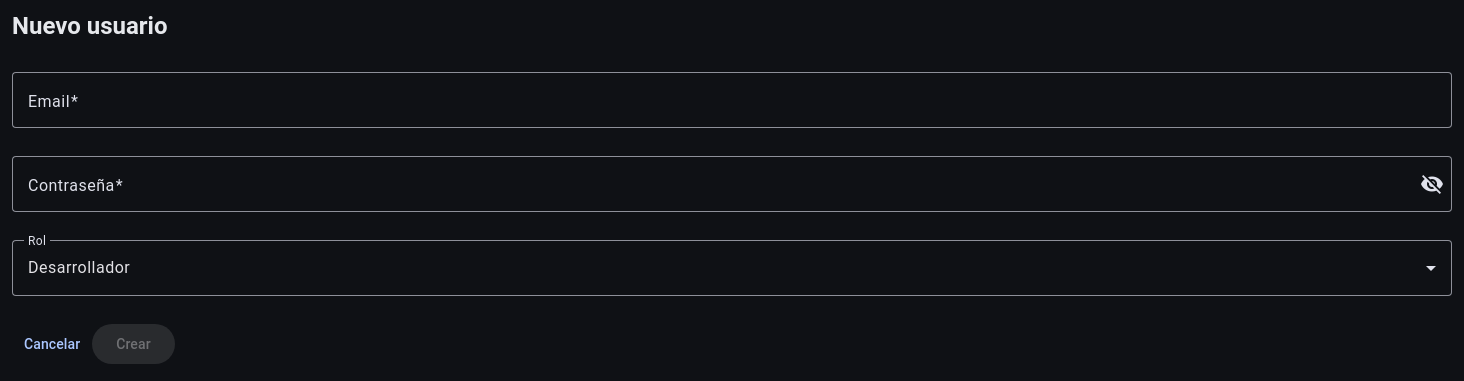
Test: CreateUserDialogComponent › Estado inicial del formulario › el botón Crear debe habilitarse con datos válidos
In the field named "Correo electrónico": (732, 100) [28,88,1436,112], type "user@example.com"
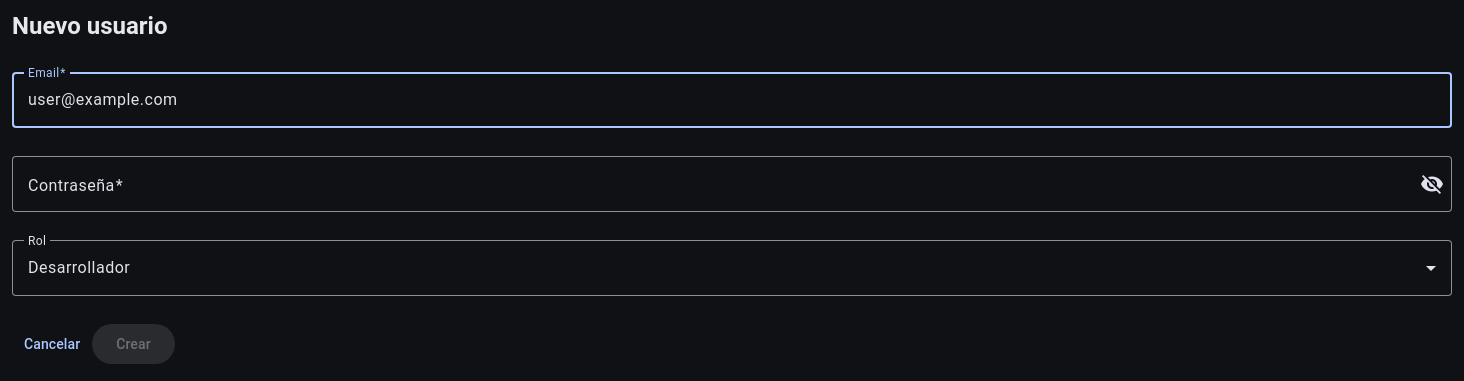
In the password field labelled "Contraseña": (718, 184) [28,172,1408,196], type "password123"
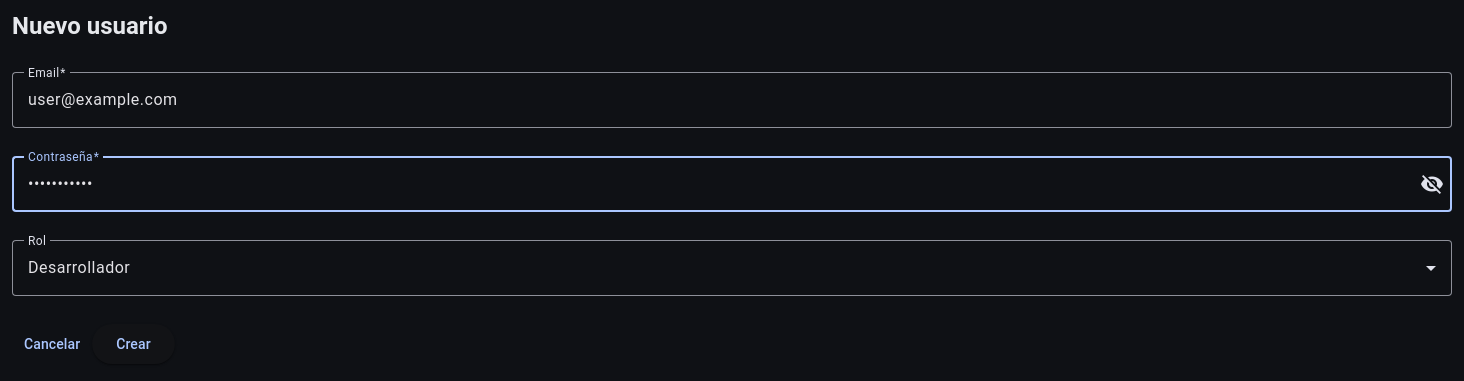
Now the button "Crear" is enabled, box [92,324,175,364]
